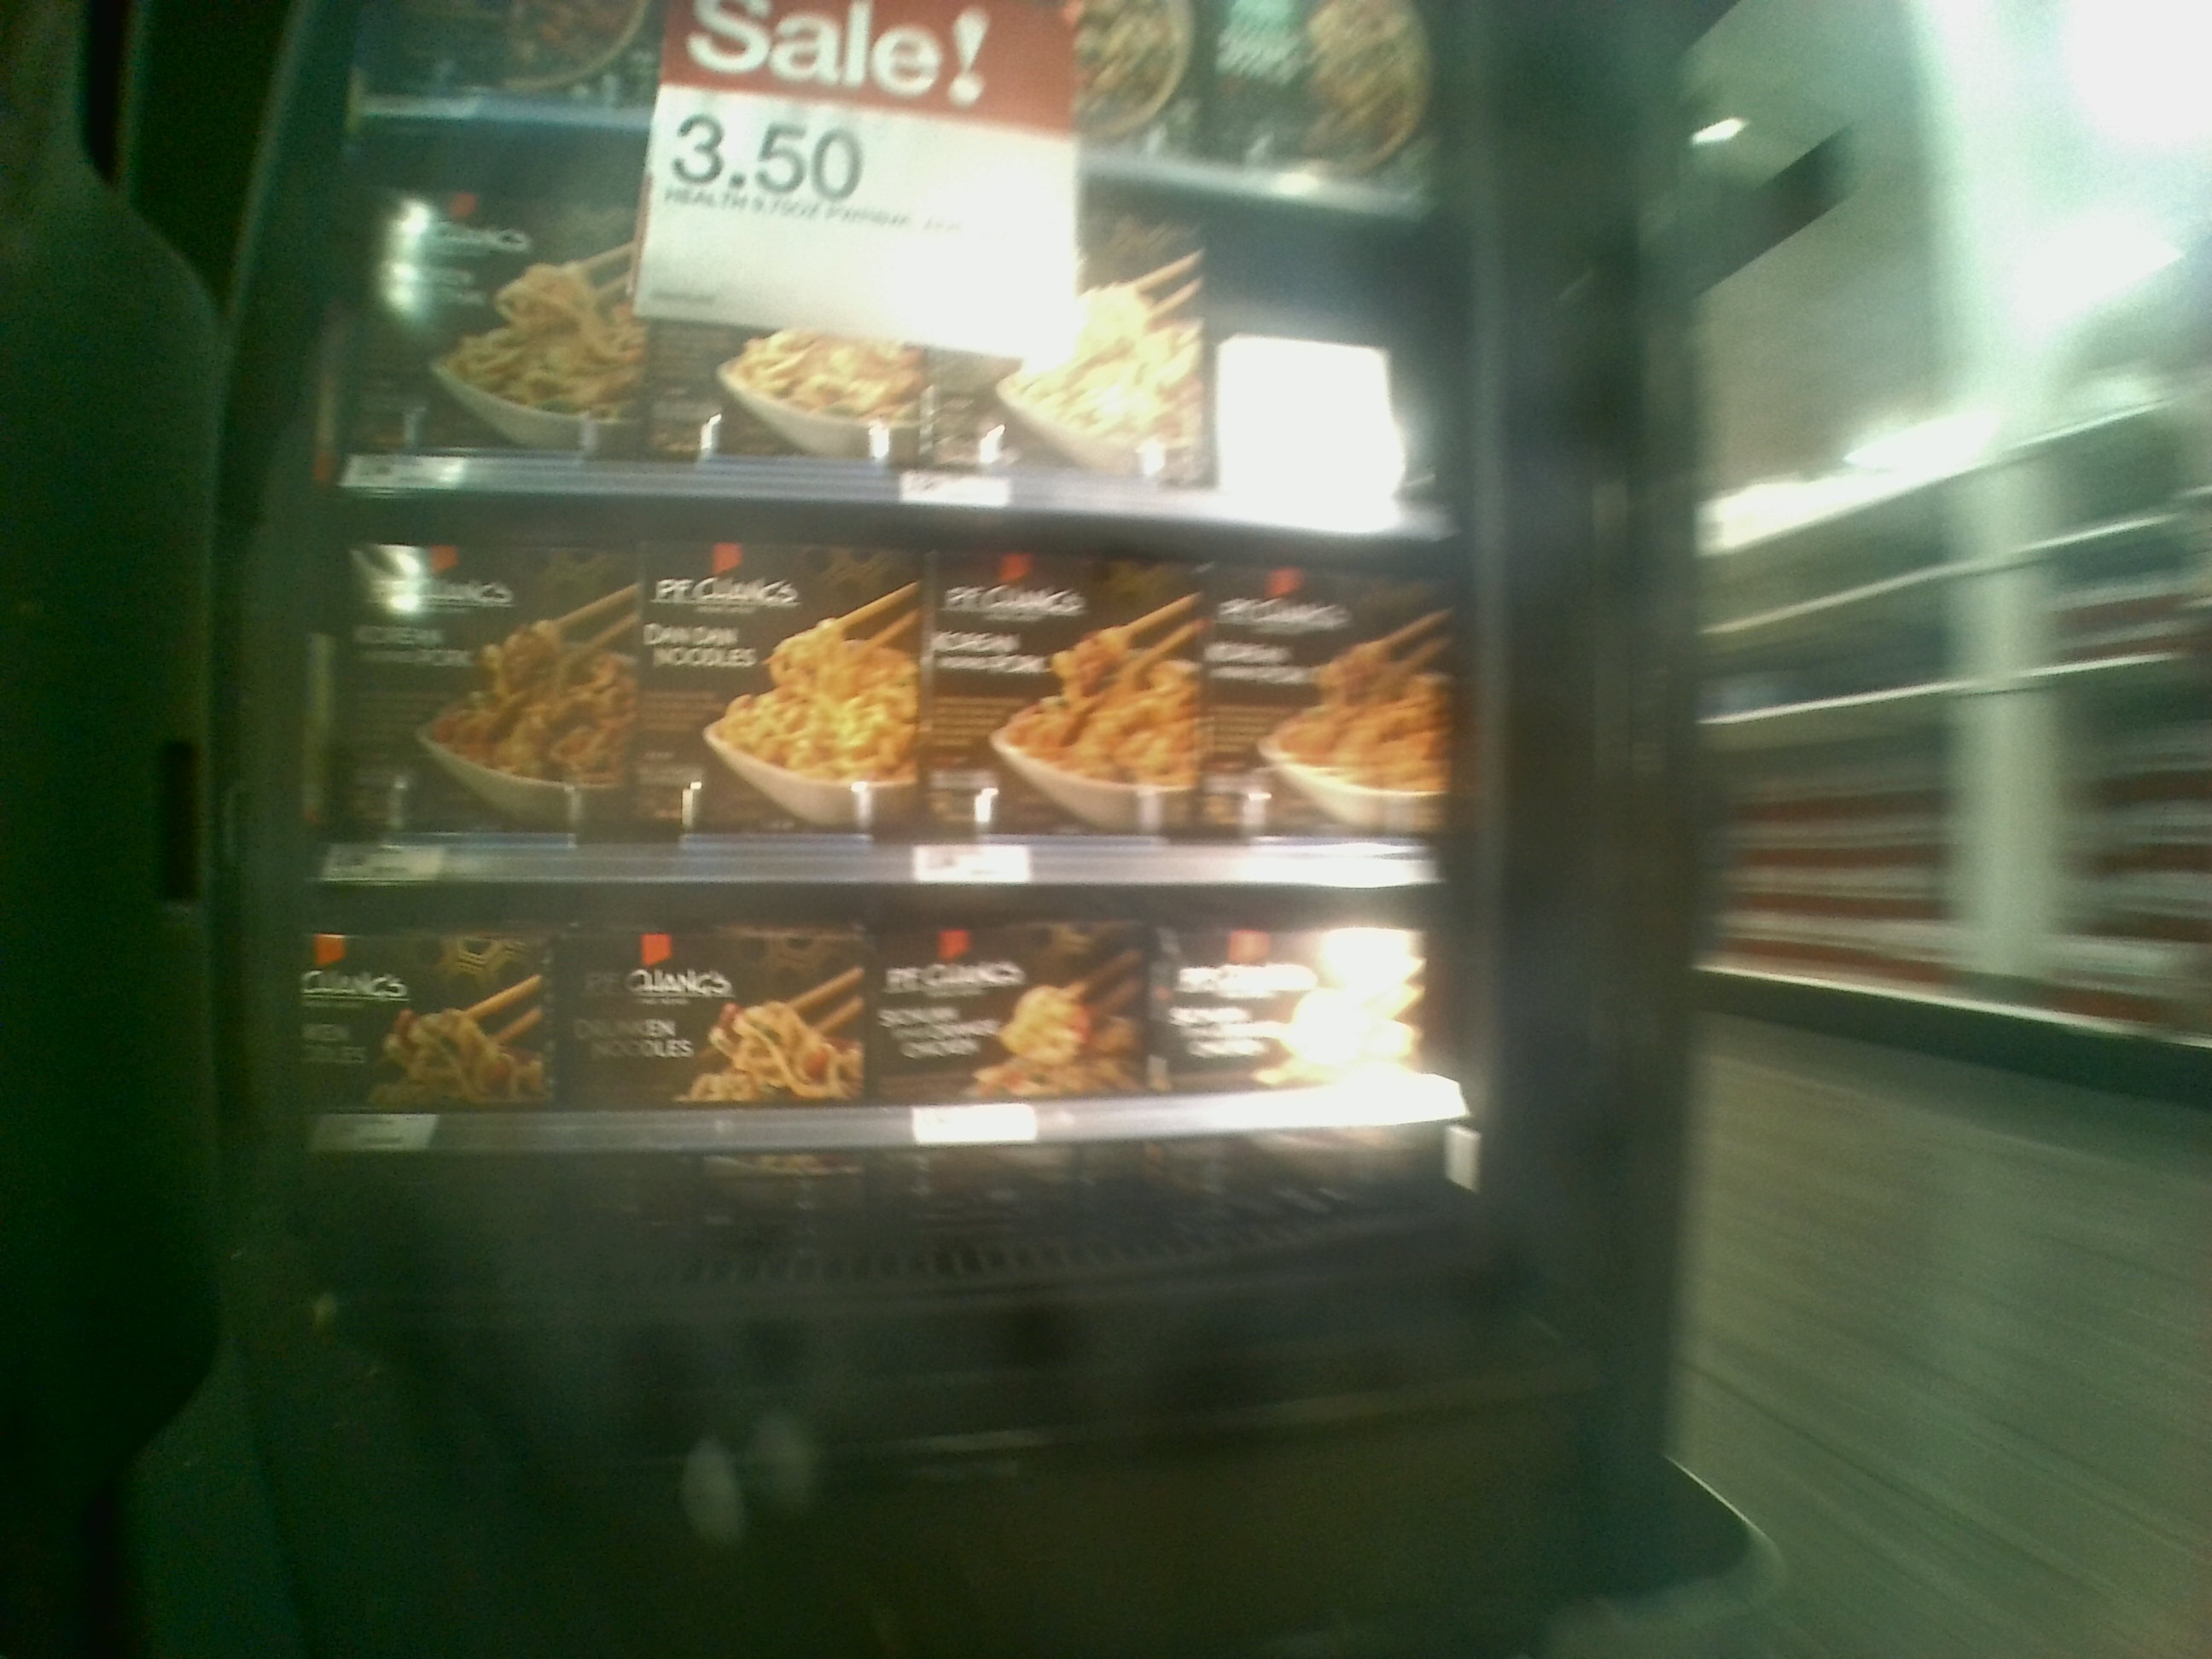shelf: (312, 457, 1465, 871), (305, 868, 1486, 1263)
